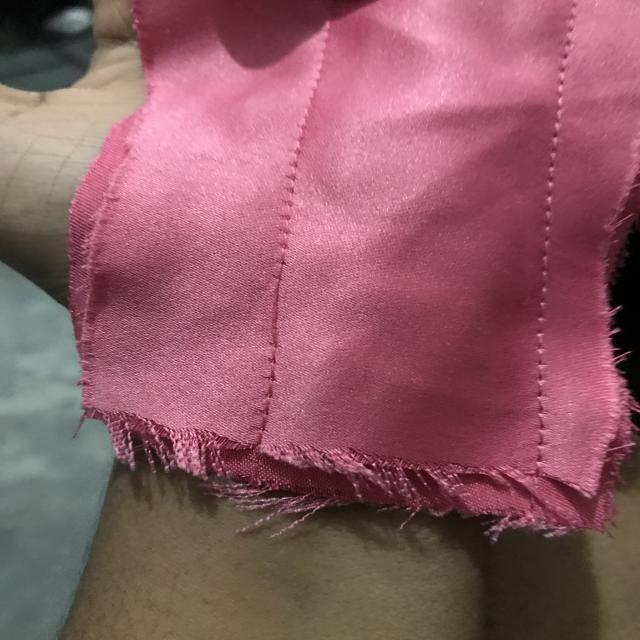good: (527, 167, 569, 322)
skip: (260, 266, 306, 367)
